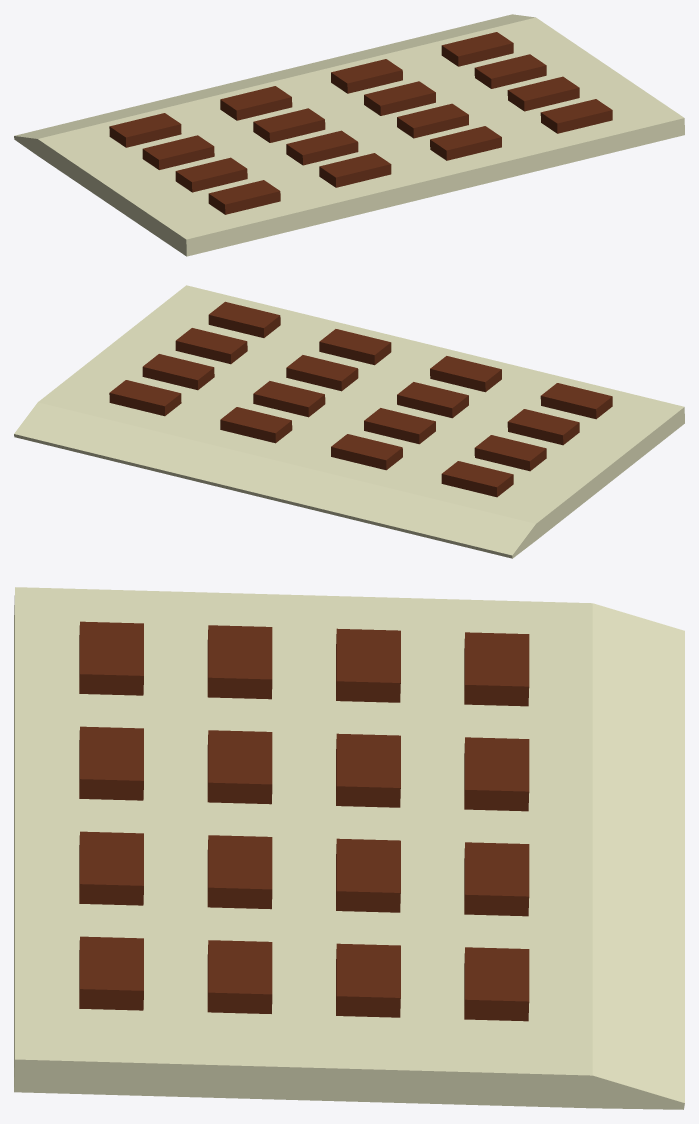
File: KeyBoard.fbx
3 renders of one model, top to bottom at view 1: azimuth 30°, elevation 25°; view 2: azimuth 150°, elevation 25°; view 3: azimuth 270°, elevation 25°, orthographic. The views are drawn at different scales.
Visible parts, largest first — view 1: Keyboard; view 2: Keyboard; view 3: Keyboard.
Part boxes in pixels (left/top/right/bottom): Keyboard: left=14, top=14, right=684, bottom=256; Keyboard: left=14, top=285, right=684, bottom=558; Keyboard: left=14, top=587, right=684, bottom=1109.
Size of the model in its own units: 0.5952 by 0.0401 by 0.3573.
